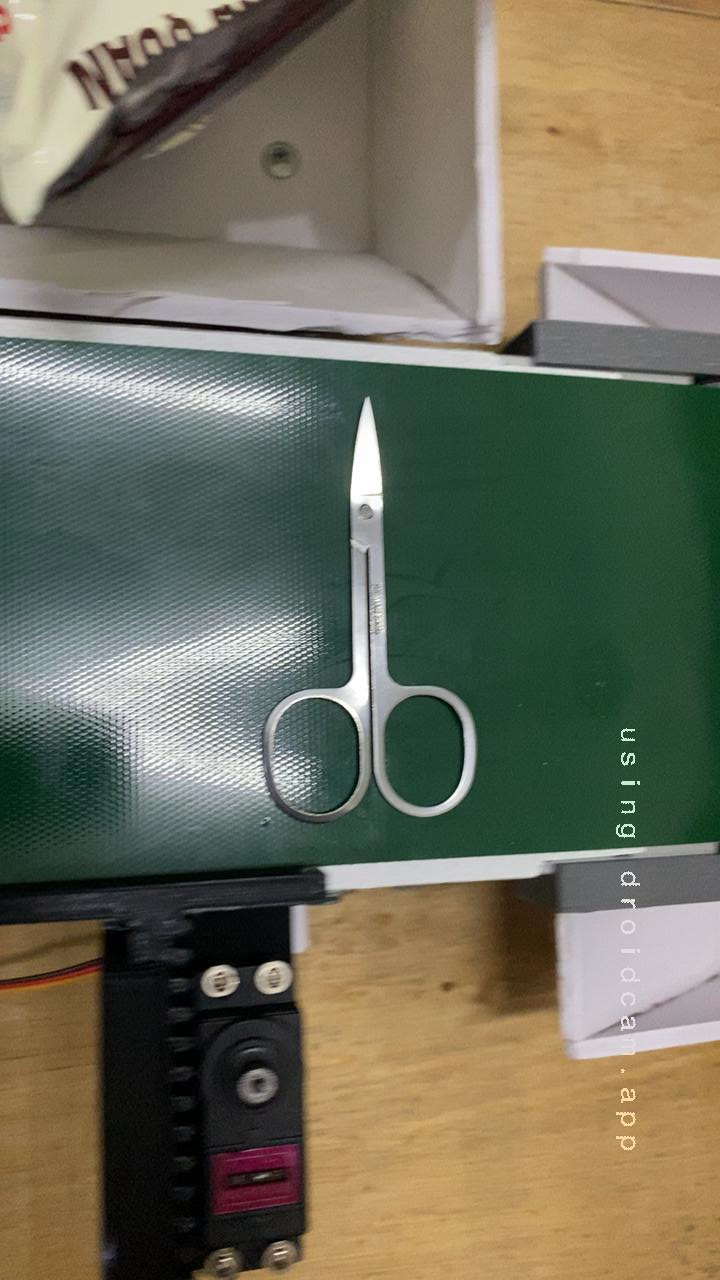scissor: (240, 410, 501, 851)
